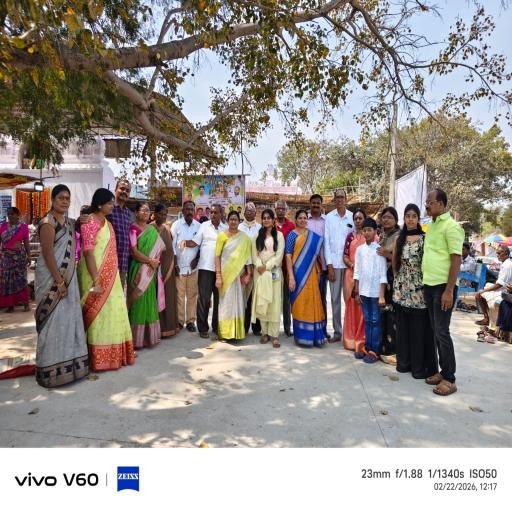person_Detection: (35, 186, 88, 387), (77, 188, 134, 371), (107, 202, 166, 347), (181, 205, 227, 324), (155, 213, 199, 336), (215, 211, 252, 340)
tree_Detection: (252, 208, 285, 348)
